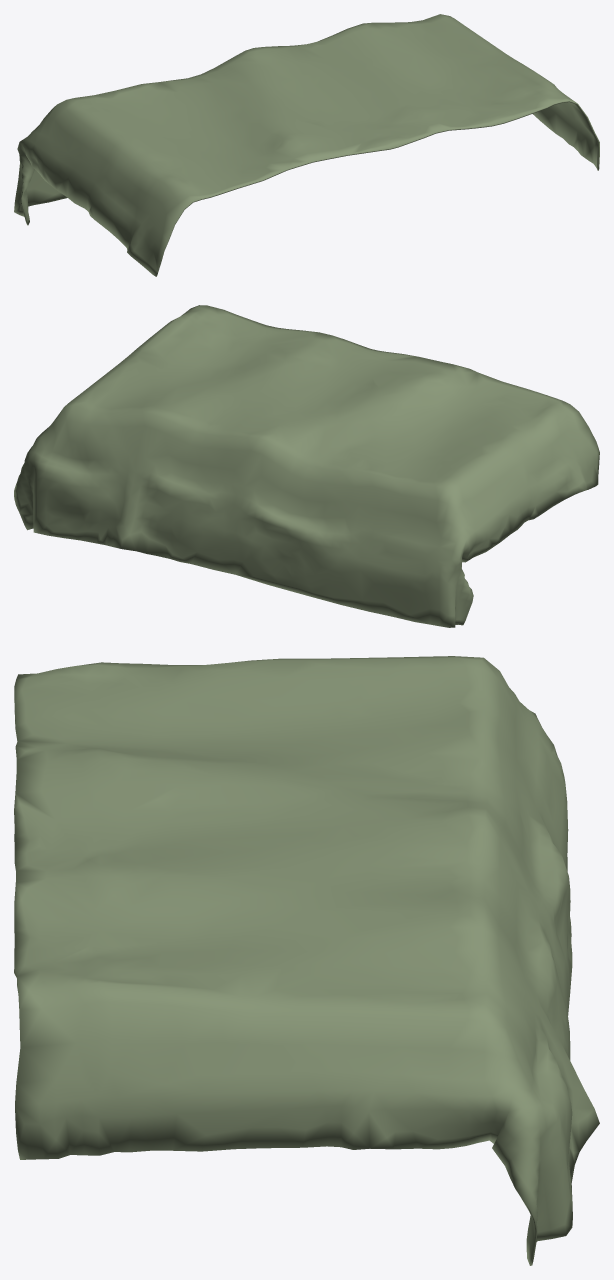
The model's file is draped-throw.glb.
The picture shows the model from 3 angles, top to bottom: view 1: azimuth 30°, elevation 25°; view 2: azimuth 150°, elevation 25°; view 3: azimuth 270°, elevation 25°; orthographic projection. The views are drawn at different scales.
Parts seen in each view (by area): view 1: DrapedThrowStatic; view 2: DrapedThrowStatic; view 3: DrapedThrowStatic.
Part boxes in pixels (x1=…): DrapedThrowStatic: x1=14, y1=14, x2=599, y2=276; DrapedThrowStatic: x1=14, y1=305, x2=599, y2=627; DrapedThrowStatic: x1=14, y1=656, x2=599, y2=1265.
Size of the model in its own units: 1.6 by 0.4582 by 0.9572.
